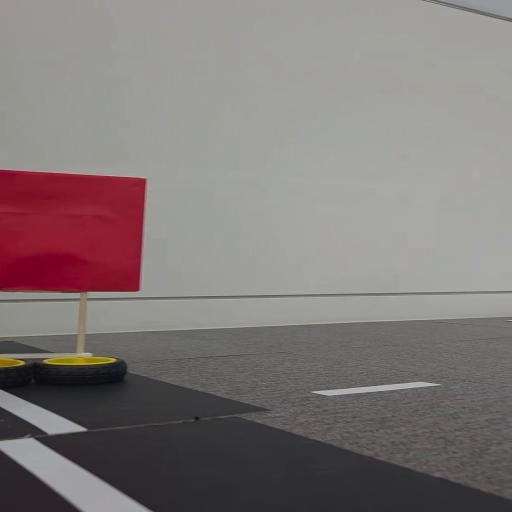Sign_A: (3, 164, 151, 398)
